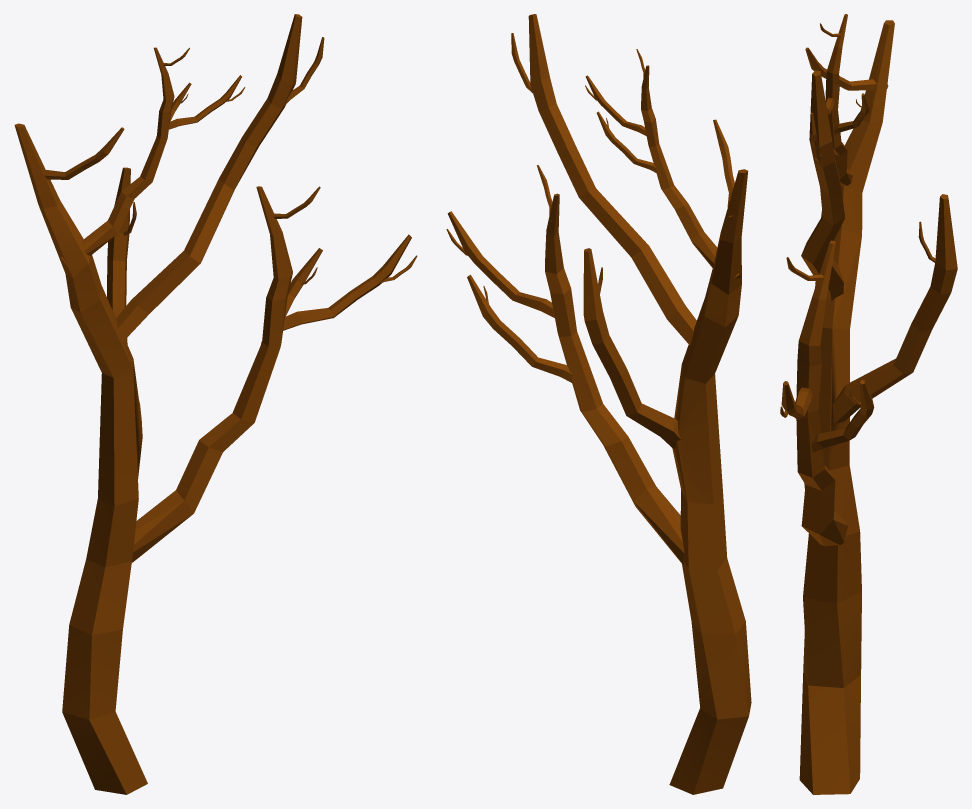
Rendered from TreeNoLeavesBig.obj.
3 views of the same model, side by side, from view 1: azimuth 30°, elevation 25°; view 2: azimuth 150°, elevation 25°; view 3: azimuth 270°, elevation 25° (orthographic). The views are drawn at different scales.
Visible parts, largest first — view 1: Cylinder.002_Cylinder.000; view 2: Cylinder.002_Cylinder.000; view 3: Cylinder.002_Cylinder.000.
Part boxes in pixels (left/top/right/bottom): Cylinder.002_Cylinder.000: left=14, top=14, right=417, bottom=794; Cylinder.002_Cylinder.000: left=446, top=14, right=751, bottom=794; Cylinder.002_Cylinder.000: left=780, top=14, right=957, bottom=794.
Bounding box in the file's own units: 2.67 × 5.3 × 1.06.
Materials: 1 (1 with a texture image).
